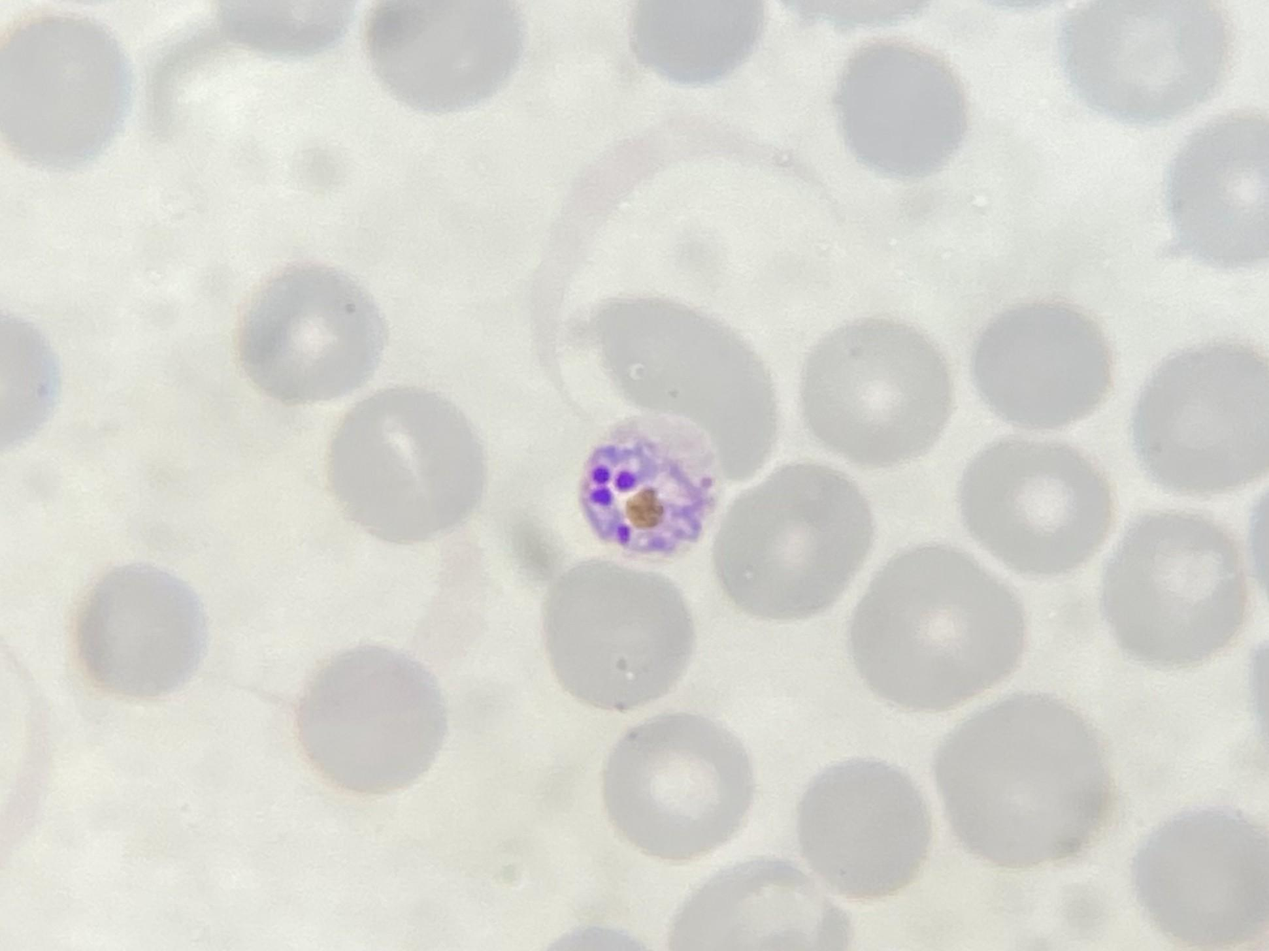Infected: (538, 390, 686, 532)
Uninfected: (494, 464, 680, 659), (159, 77, 333, 254), (784, 395, 955, 558), (244, 240, 414, 402), (512, 81, 673, 237), (13, 277, 168, 439), (390, 334, 553, 488), (815, 153, 972, 307), (316, 484, 472, 635), (571, 242, 721, 398), (155, 373, 311, 520), (292, 761, 439, 906), (39, 826, 207, 951), (882, 543, 1027, 686), (1139, 774, 1269, 930), (340, 53, 473, 203), (0, 454, 129, 607), (0, 0, 137, 142), (738, 837, 907, 951), (1052, 245, 1186, 385), (159, 519, 301, 645), (0, 678, 102, 837)
